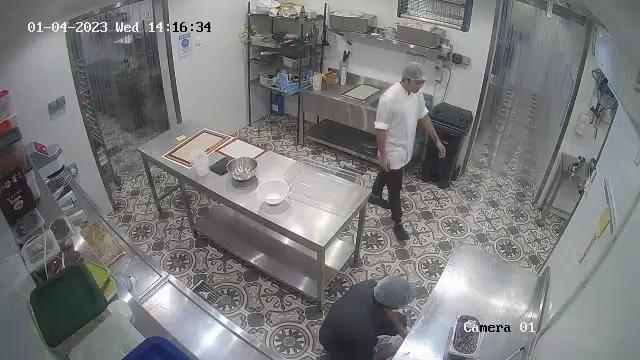no_apron: (387, 92, 419, 165)
